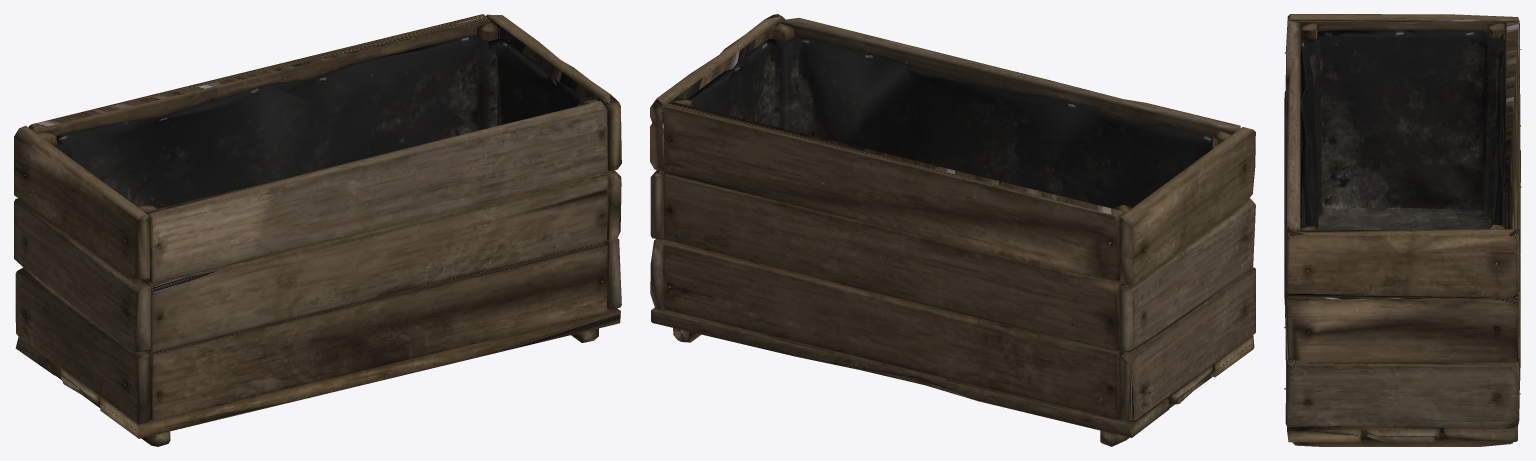
The model's file is planter_box_01_lod2.glb.
3 views of the same model, side by side, from view 1: azimuth 30°, elevation 25°; view 2: azimuth 150°, elevation 25°; view 3: azimuth 270°, elevation 25° (orthographic). The views are drawn at different scales.
Parts seen in each view (by area): view 1: planter_box_01; view 2: planter_box_01; view 3: planter_box_01.
Part boxes in pixels (<box>): planter_box_01: <box>14,14,621,446</box>; planter_box_01: <box>650,14,1255,446</box>; planter_box_01: <box>1284,14,1521,446</box>.
Size of the model in its own units: 0.911 by 0.4249 by 0.4113.
1 material, 1 textured.
